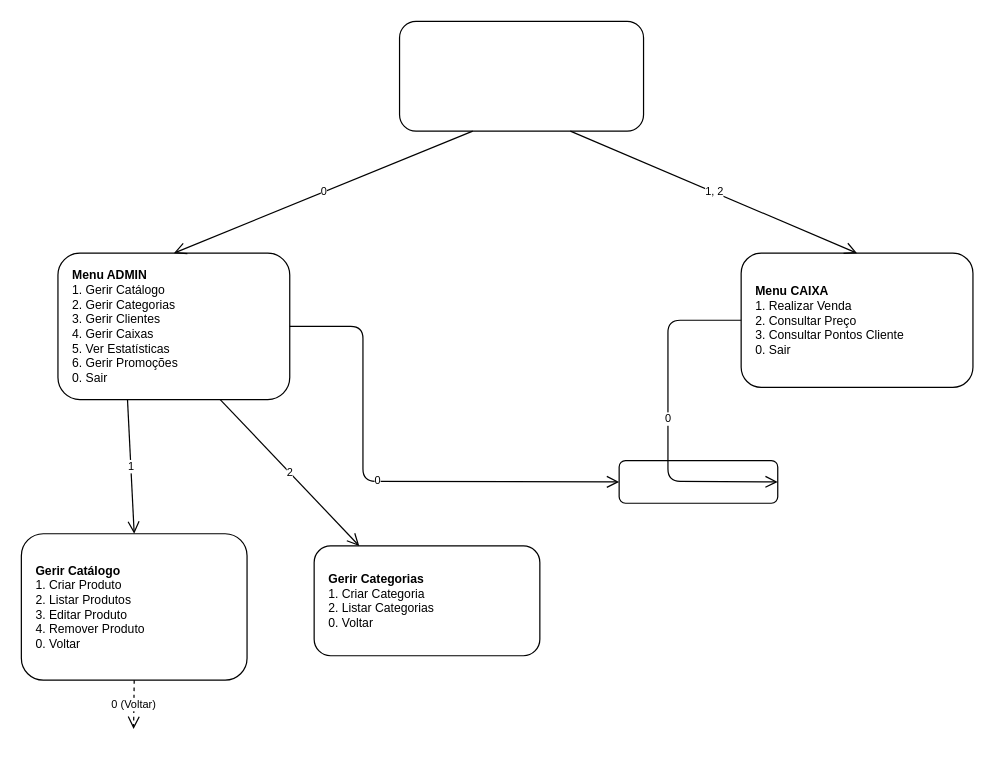
This 994x763 diagram has some shape labels left out. The box of each missing label's shape, as (x1, y1, x2, y2) in pixels:
Menu Principal: (618, 459, 778, 503)
Menu Principal 0. ADMIN 1. CAIXA: Caixa 1 2. CAIXA: Caixa 2: (398, 20, 644, 131)
